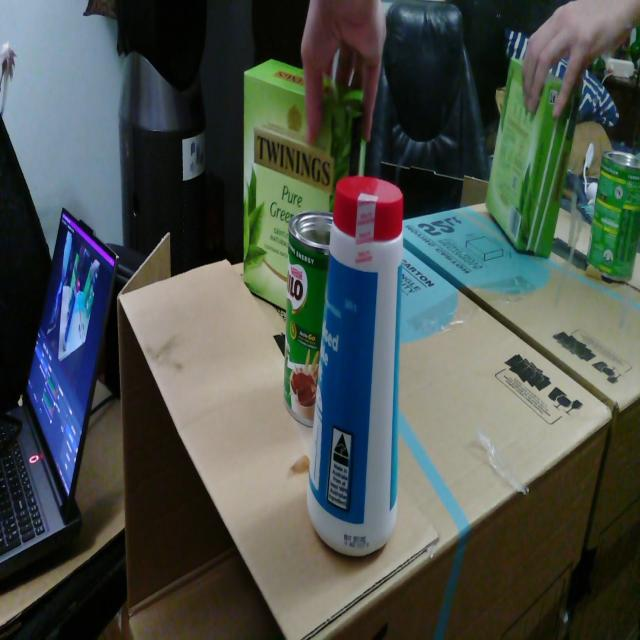nestle_milo_tin: (284, 211, 333, 427)
twinings_greentea_box: (244, 59, 366, 310)
woolworths_salt_bottle: (307, 176, 403, 556)
